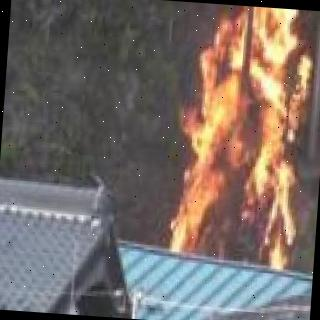fire: (164, 1, 320, 272)
